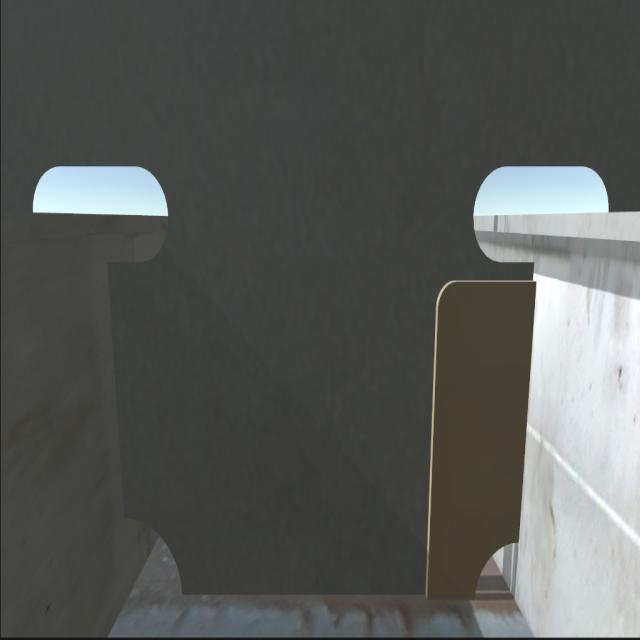fillet_hole: (125, 508, 181, 596), (473, 545, 511, 597)
fillet_yong_jeop_jang: (171, 586, 481, 609)
longi_yong_jeop_jang: (512, 281, 542, 548), (100, 253, 129, 514)
plate_CP05: (433, 276, 521, 604)
